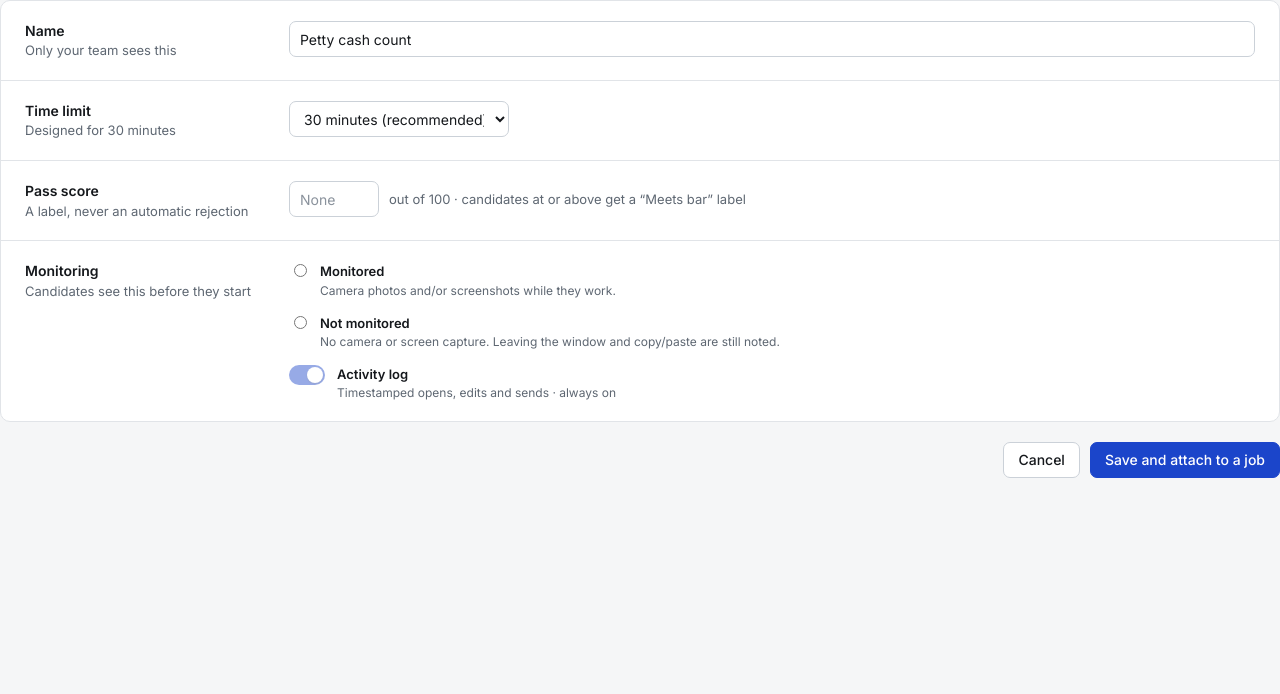
Test: ConfigureAssessmentForm: from the library › shows camera and screen options, off, only once Monitored is picked
The image size is (1280, 694).
What coordinates should you click on to do the following:
click the radio button labelled "Monitored"
I would click on:
 (300, 271)
Its box is [294,264,307,277].
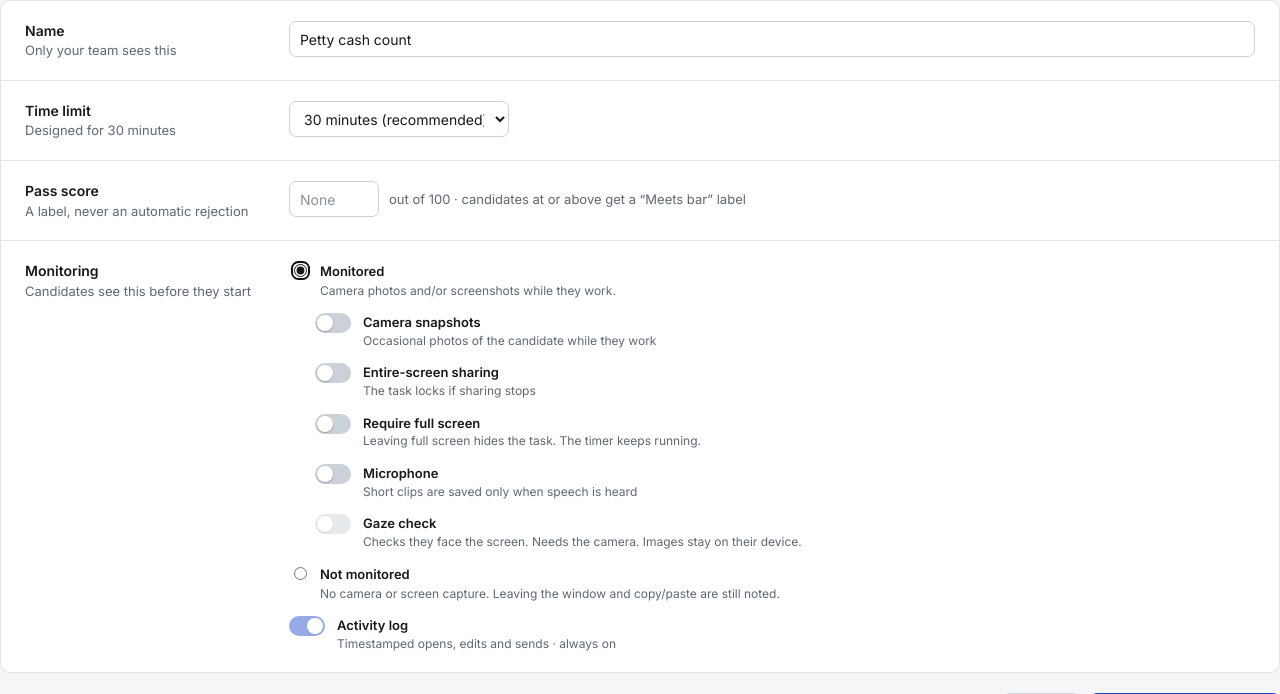
What coordinates should you click on to do the following:
click the radio button labelled "Not monitored"
I would click on:
 (300, 574)
Its box is [294,567,307,580].
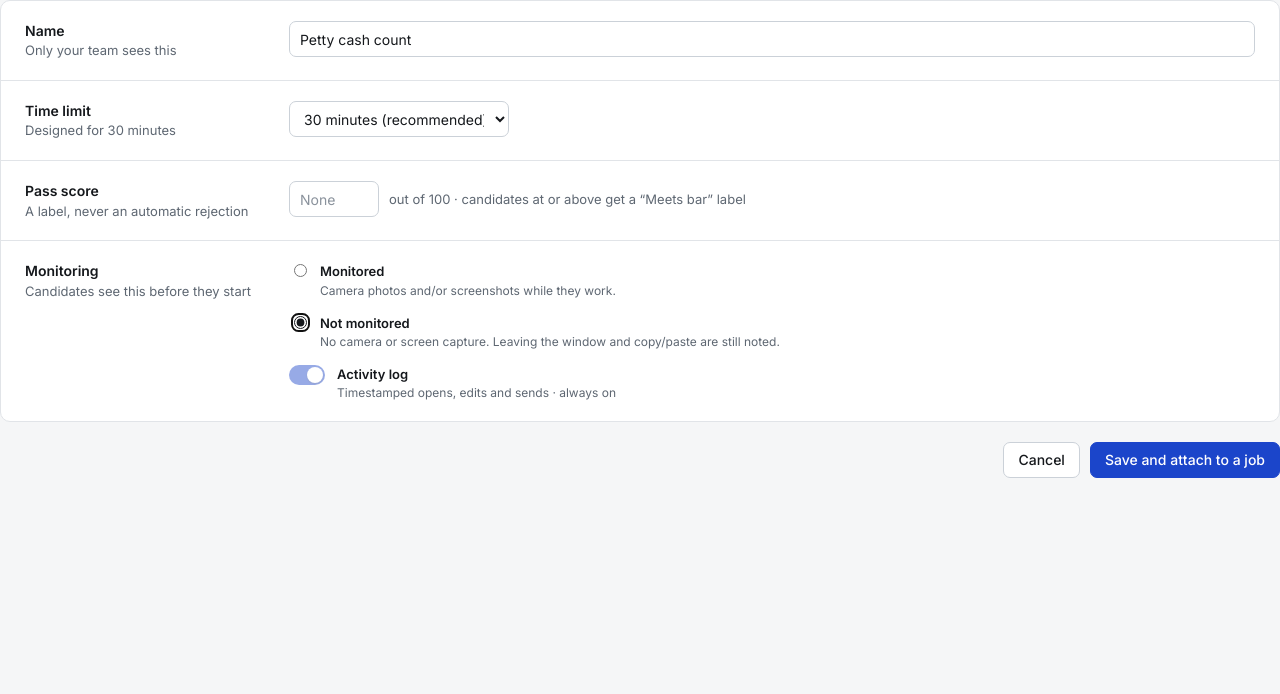
expect the text "Camera snapshots" is gone: met
